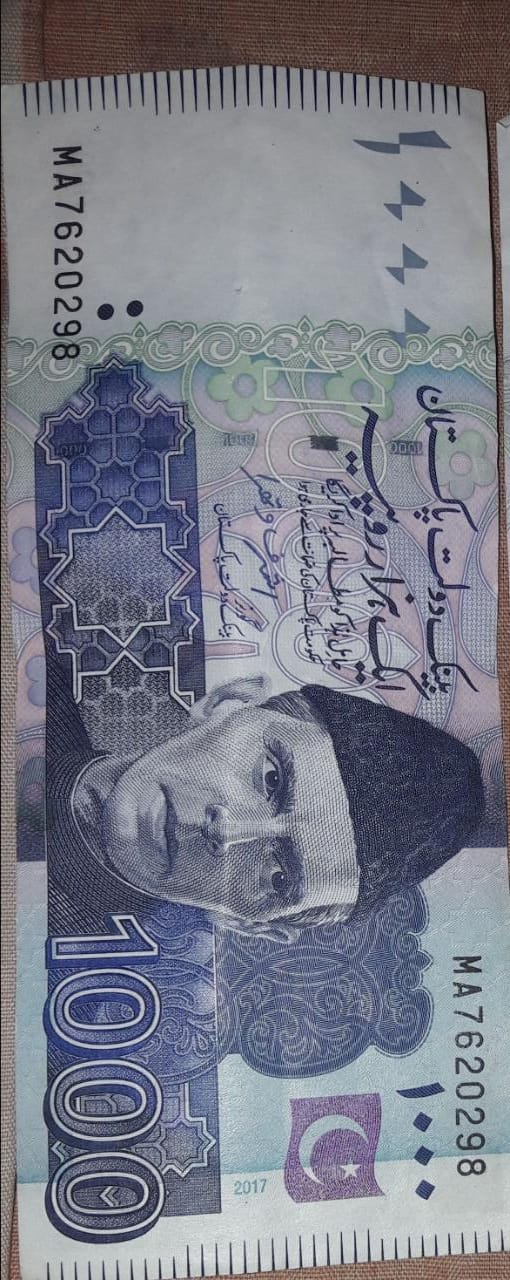1000 rupee: (10, 68, 495, 1253)
